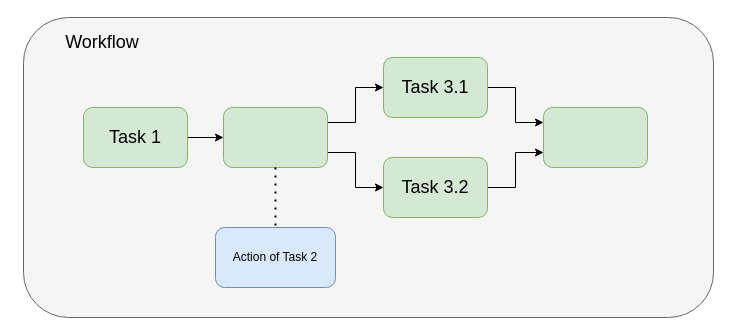
This 731x335 diagram has some shape labels left out. The shapes that lost their labels are listed below. From the top down, each one's centre as x and y in pixels, then its label:
point 275,137: Task 2
point 595,137: Task 4
